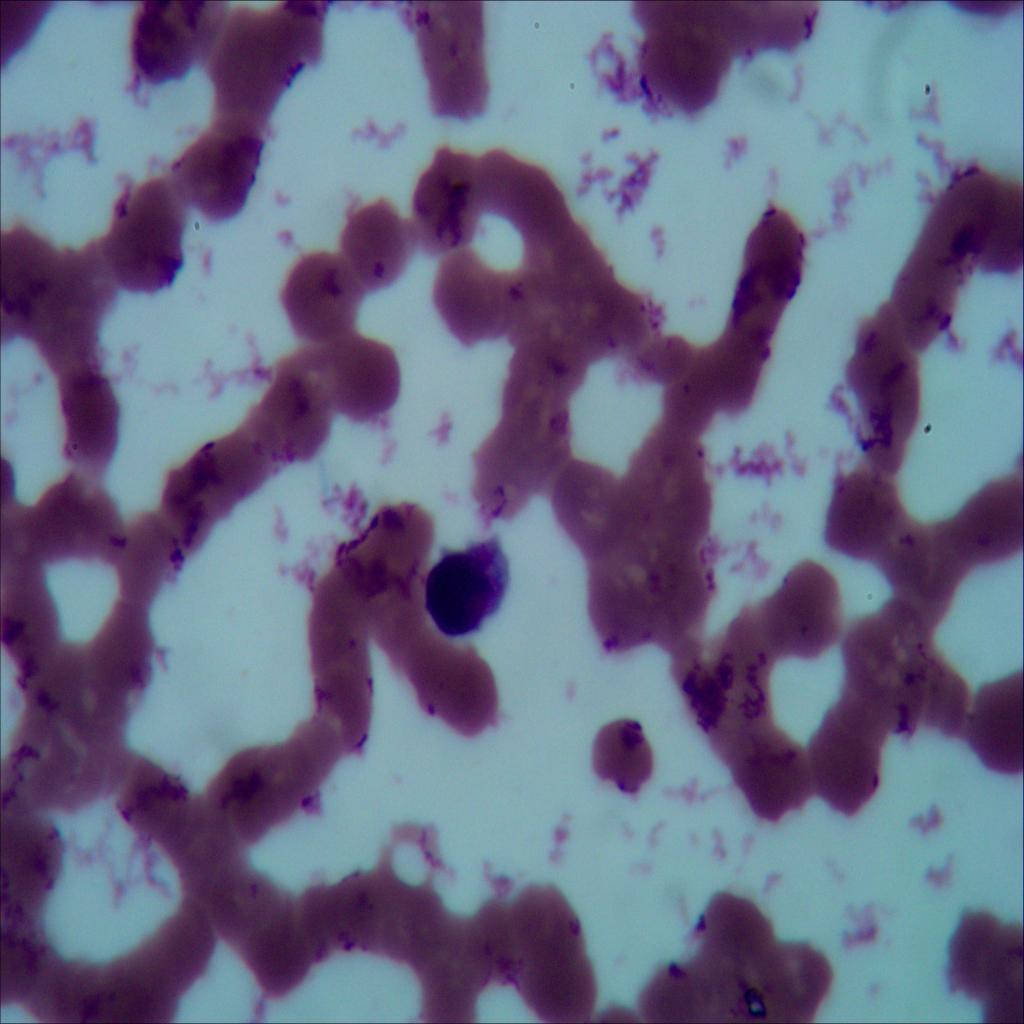Limfoblast: (420, 534, 511, 640)
